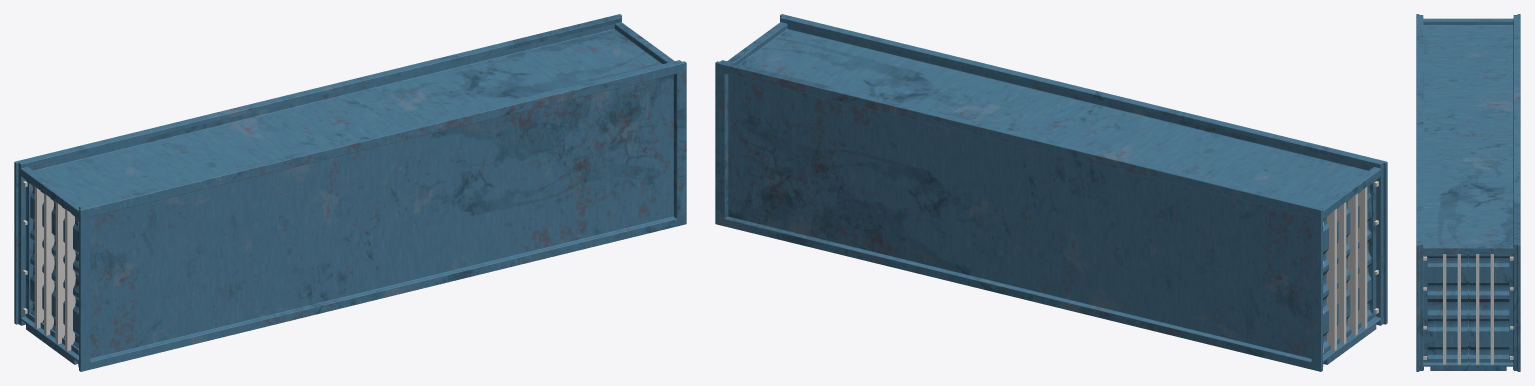
Rendered from lightBlueBigCrate.fbx.
3 views of the same model, side by side, from view 1: azimuth 30°, elevation 25°; view 2: azimuth 150°, elevation 25°; view 3: azimuth 270°, elevation 25° (orthographic). The views are drawn at different scales.
Parts seen in each view (by area): view 1: lightBlueCrateBig_lo; view 2: lightBlueCrateBig_lo; view 3: lightBlueCrateBig_lo.
Boxes of the visible parts, box(x1,y1,x2,y2) form: lightBlueCrateBig_lo: box(14, 14, 686, 371); lightBlueCrateBig_lo: box(715, 14, 1387, 371); lightBlueCrateBig_lo: box(1416, 14, 1520, 371).
Bounding box in the file's own units: 12.1 × 3.09 × 2.3.
